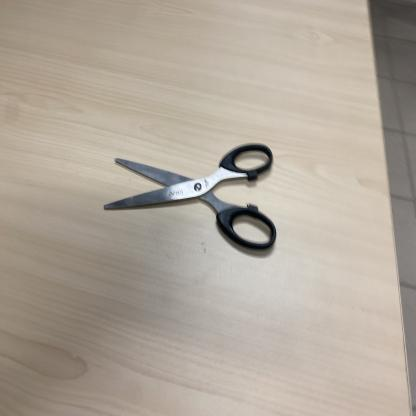scissors: (101, 141, 280, 257)
